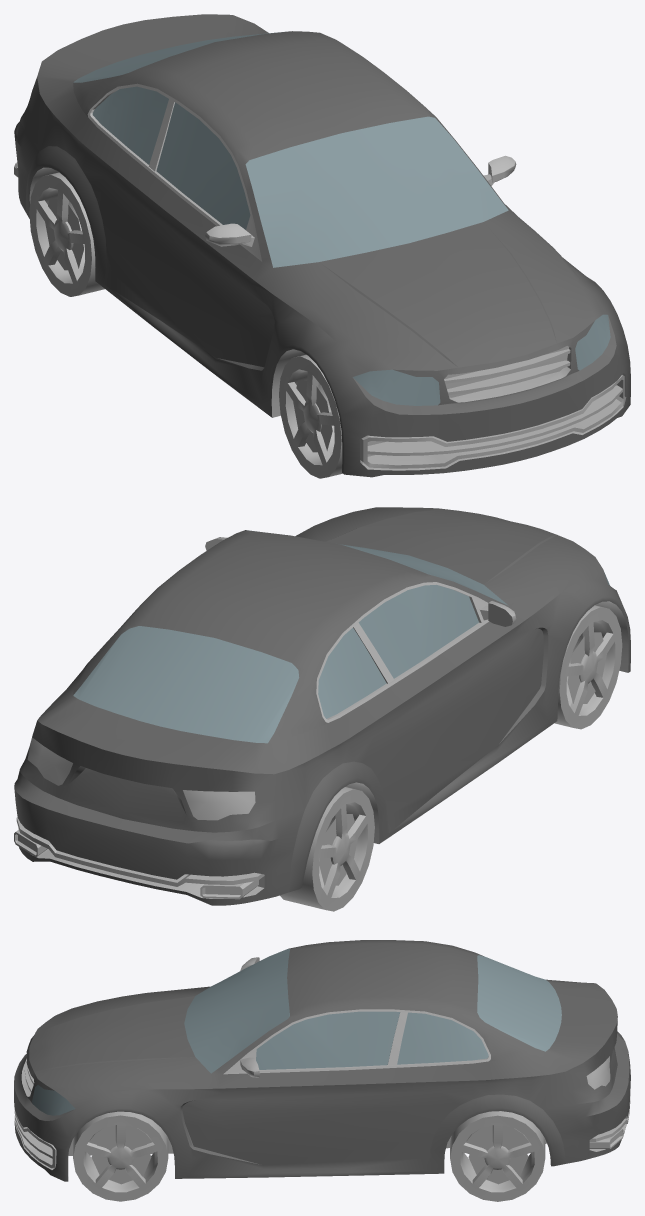
Rendered from Car_34.FBX.
3 renders of one model, top to bottom at view 1: azimuth 30°, elevation 25°; view 2: azimuth 150°, elevation 25°; view 3: azimuth 270°, elevation 25°, orthographic. The views are drawn at different scales.
Visible parts, largest first — view 1: Body_34, Glass_34, Matte_34, Wheel_Back_R, Wheel_R, Glass_light, break_R; view 2: Body_34, Glass_34, Matte_34, Wheel_Back_R, Wheel_R, Taillights_34, break_R; view 3: Body_34, Glass_34, Matte_34, Wheel_Back_L, Wheel_L, break_L, Glass_light, Taillights_34.
Part boxes in pixels (box(x1,y1,x2,y2)): Body_34: box(14, 14, 630, 477); Glass_34: box(73, 31, 508, 267); Matte_34: box(14, 83, 626, 470); Wheel_Back_R: box(29, 172, 104, 296); Wheel_R: box(279, 354, 342, 478); Glass_light: box(353, 314, 610, 405); break_R: box(293, 380, 332, 452); Body_34: box(14, 507, 630, 905); Glass_34: box(73, 530, 508, 743); Matte_34: box(14, 537, 628, 899); Wheel_Back_R: box(280, 787, 374, 911); Wheel_R: box(554, 605, 622, 729); Taillights_34: box(27, 737, 255, 820); break_R: box(567, 632, 606, 703); Body_34: box(14, 940, 630, 1181); Glass_34: box(184, 949, 561, 1073); Matte_34: box(14, 957, 630, 1184); Wheel_Back_L: box(450, 1111, 545, 1201); Wheel_L: box(73, 1111, 168, 1201); break_L: box(91, 1131, 151, 1184); Glass_light: box(32, 1085, 75, 1115); Taillights_34: box(586, 1056, 610, 1089).
Bounding box in the file's own units: 1.84 × 1.38 × 4.22.
